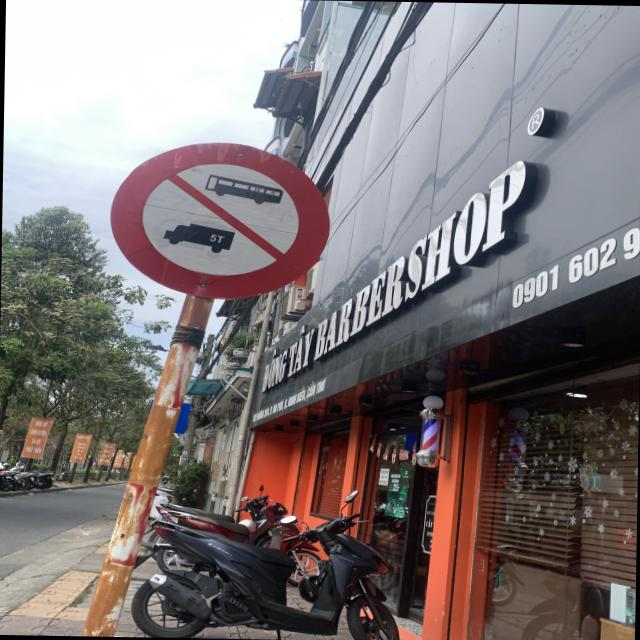Cam_XeTai_XeKhach: (107, 140, 332, 300)
